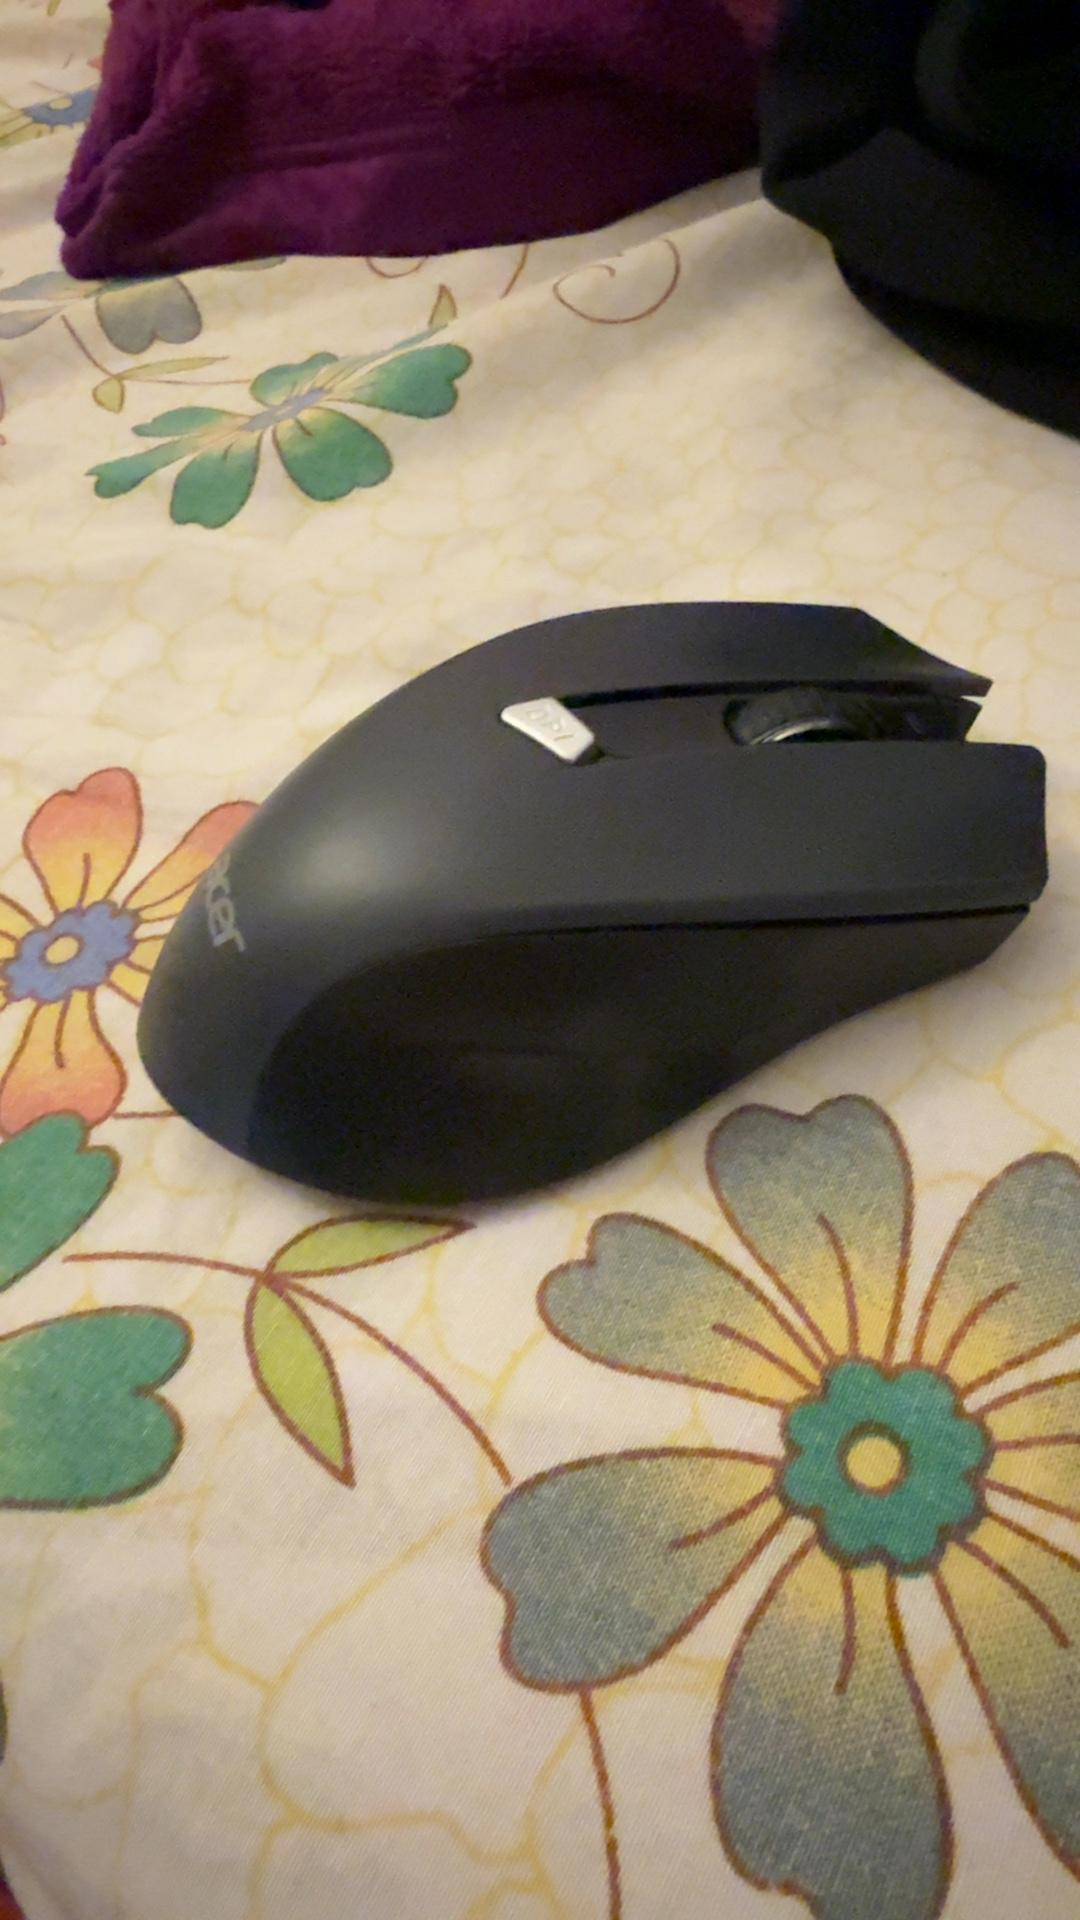Mouse: (115, 563, 1072, 1228)
